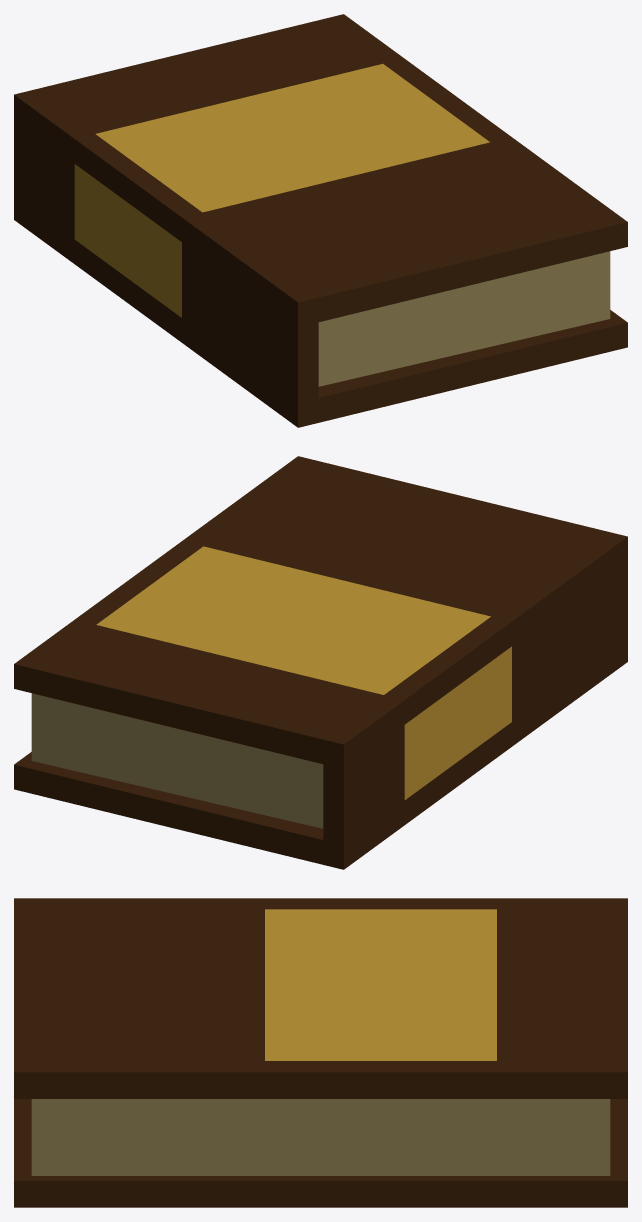
The model's file is Journal.fbx.
3 views of the same model, one above another, from view 1: azimuth 30°, elevation 25°; view 2: azimuth 150°, elevation 25°; view 3: azimuth 270°, elevation 25° (orthographic). The views are drawn at different scales.
Parts seen in each view (by area): view 1: Journal; view 2: Journal; view 3: Journal.
Part boxes in pixels (x1,y1,x2,y2): Journal: [14, 14, 627, 427]; Journal: [14, 456, 627, 869]; Journal: [14, 898, 627, 1207].
Bounding box in the file's own units: 62.84 × 22.82 × 93.77.
